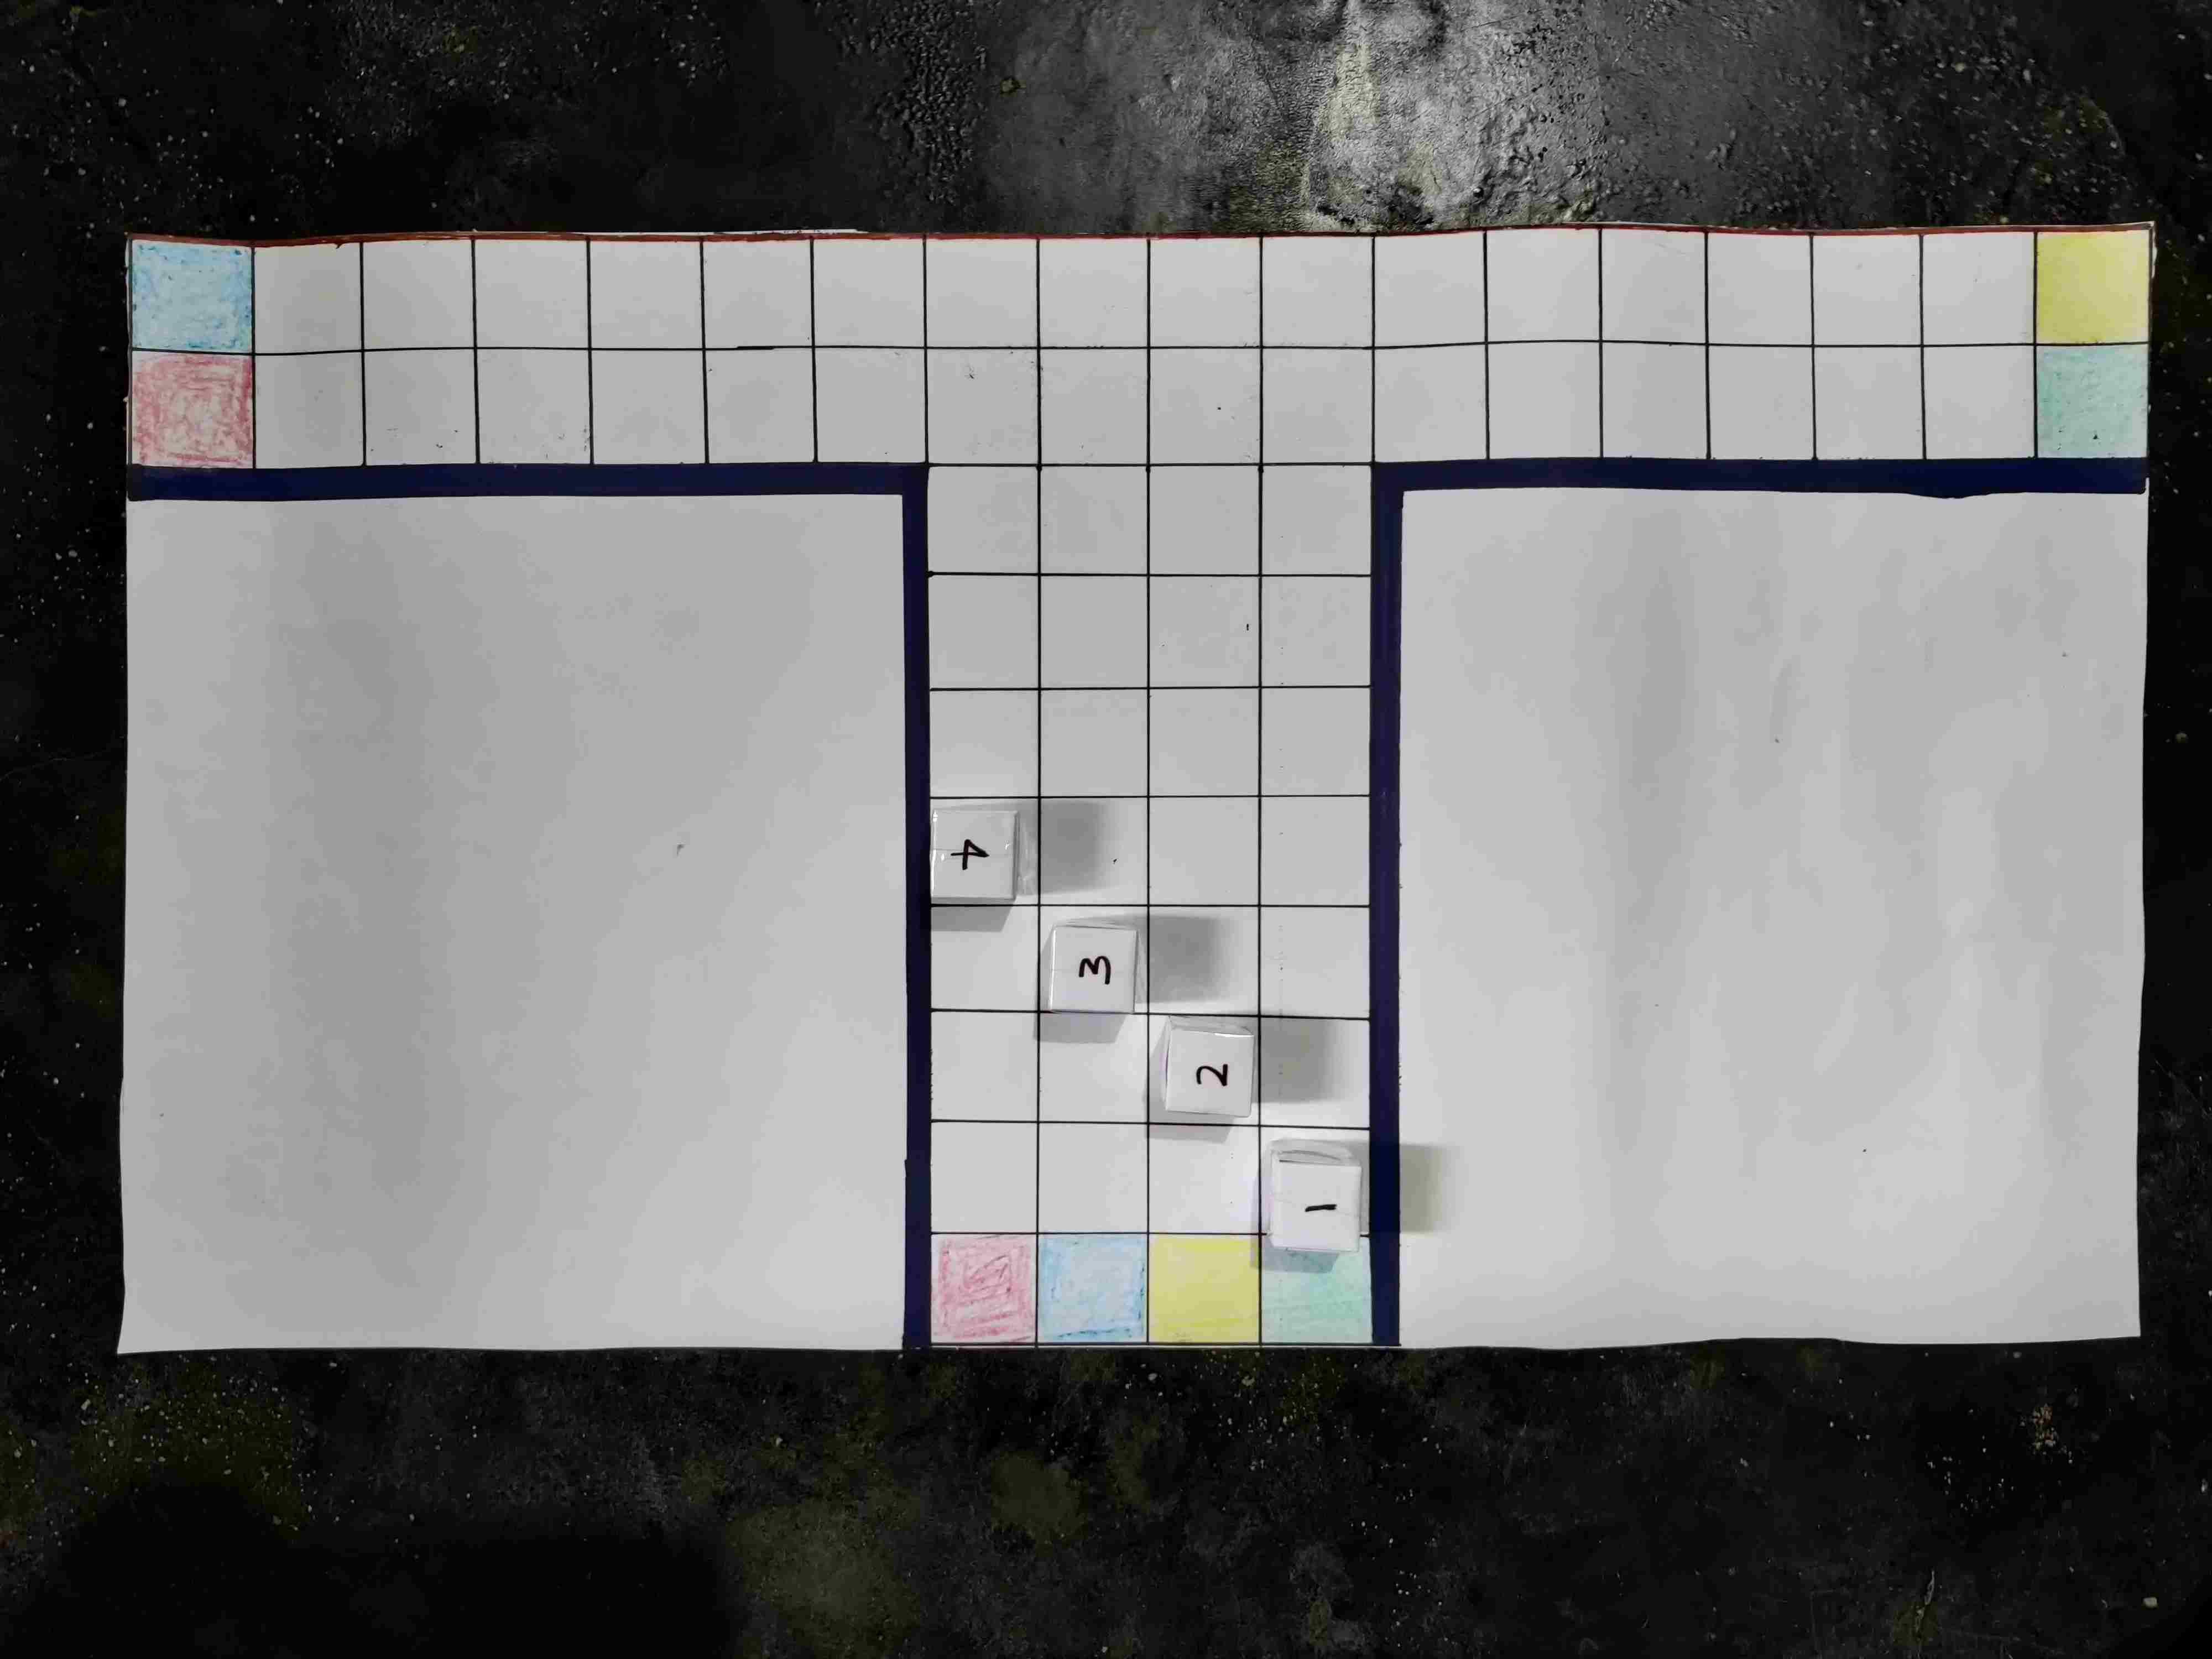arena: (261, 115, 2017, 1114)
bot: (941, 824, 1024, 904), (1052, 814, 1122, 897), (1653, 1032, 1733, 1101), (1261, 842, 1332, 913)
